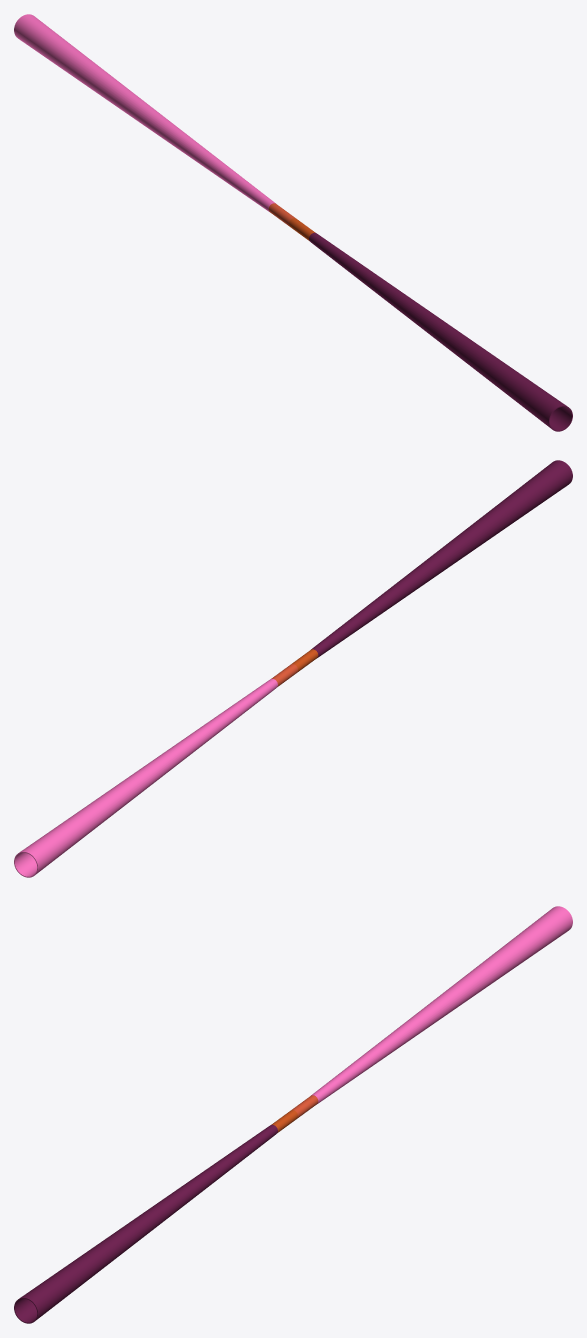
The model's file is ALLEGRO_o2_v01.gltf.
The picture shows the model from 3 angles, top to bottom: view 1: azimuth 30°, elevation 25°; view 2: azimuth 150°, elevation 25°; view 3: azimuth 330°, elevation 25°; orthographic projection.
Parts seen in each view (by area): view 1: tube_AlBeMet162_wall_6, tube_AlBeMet162_wall2_7; view 2: tube_AlBeMet162_wall2_7, tube_AlBeMet162_wall_6; view 3: tube_AlBeMet162_wall_6, tube_AlBeMet162_wall2_7.
Boxes of the visible parts, <box> form: tube_AlBeMet162_wall_6: <box>309,232,572,431</box>; tube_AlBeMet162_wall2_7: <box>14,14,275,211</box>; tube_AlBeMet162_wall2_7: <box>14,678,277,877</box>; tube_AlBeMet162_wall_6: <box>311,460,572,657</box>; tube_AlBeMet162_wall_6: <box>14,1124,277,1323</box>; tube_AlBeMet162_wall2_7: <box>311,906,572,1103</box>.
Size of the model in its own units: 6.18 by 6.15 by 238.
